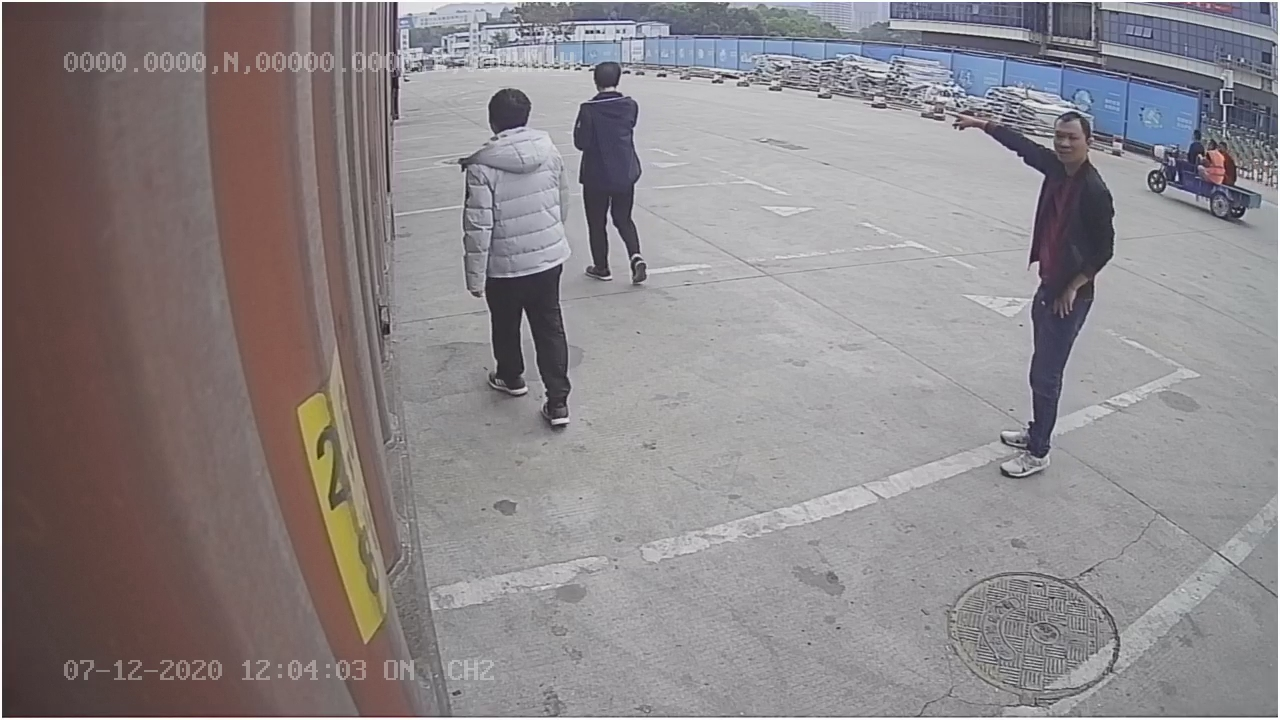person: (940, 103, 1118, 485), (450, 84, 572, 434)
